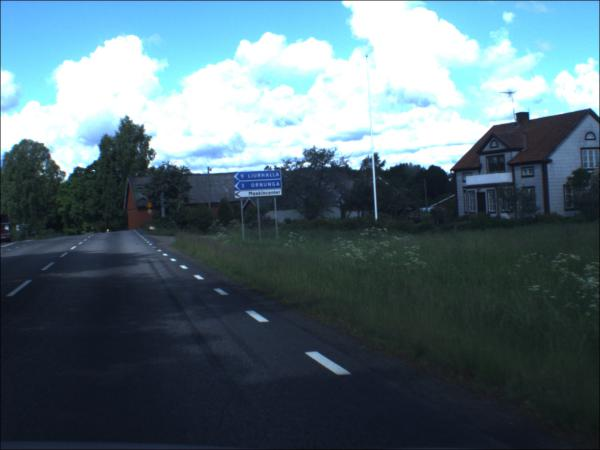50_SIGN: (147, 203, 154, 210)
PRIORITY_ROAD: (148, 210, 155, 216)
